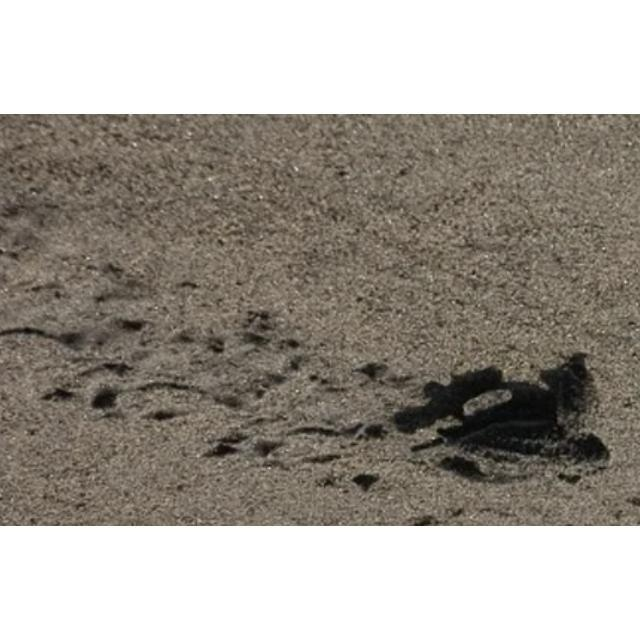turtle: (441, 360, 612, 489)
